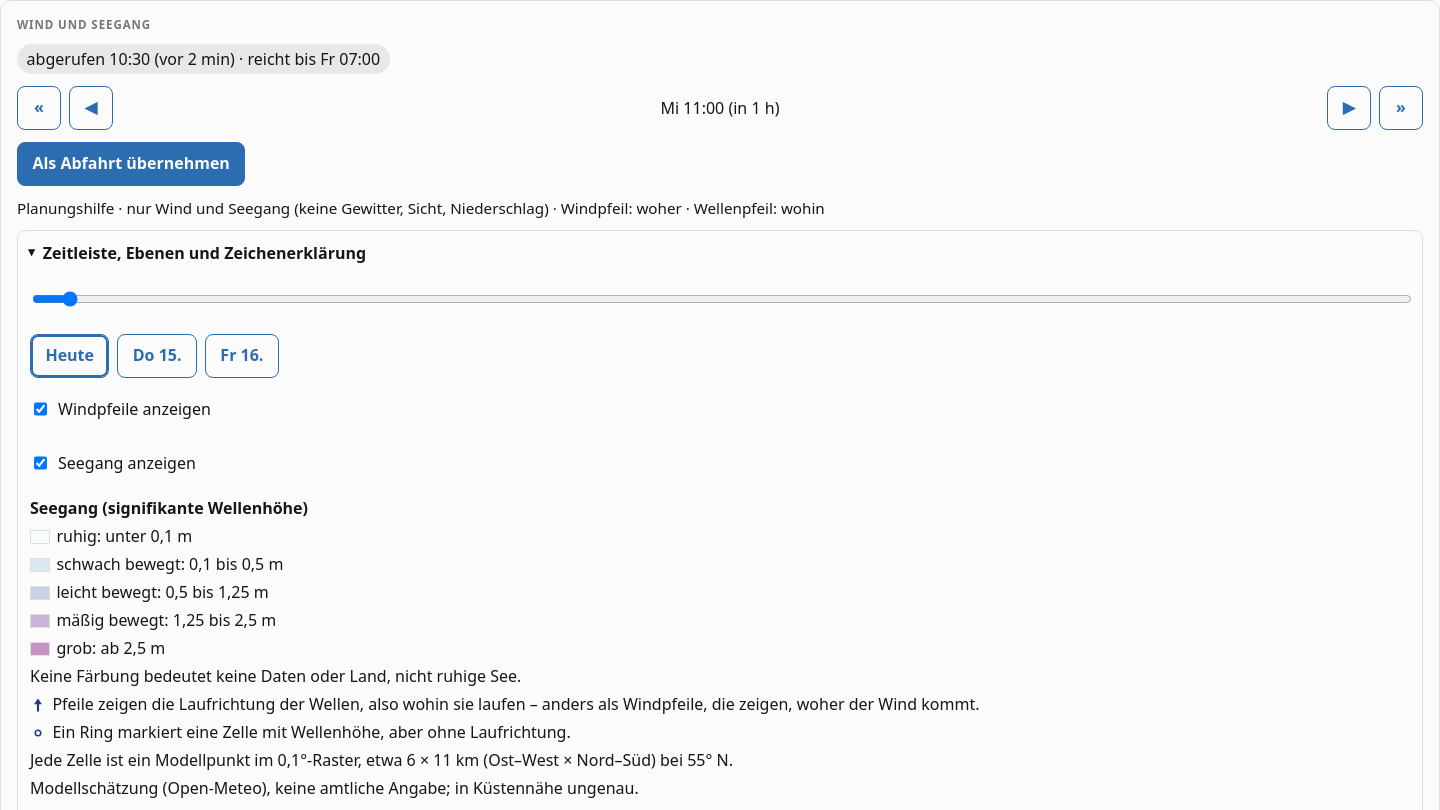
it: ConditionsPanel hour control and handoff (#1854 §4, §11) › steps by hour and day, clamped at the ends
This screenshot has width=1440, height=810.
What coordinates should you click on to do the following:
click the button named "Eine Stunde später"
I would click on:
 (1349, 108)
Its box is [1327,86,1371,130].
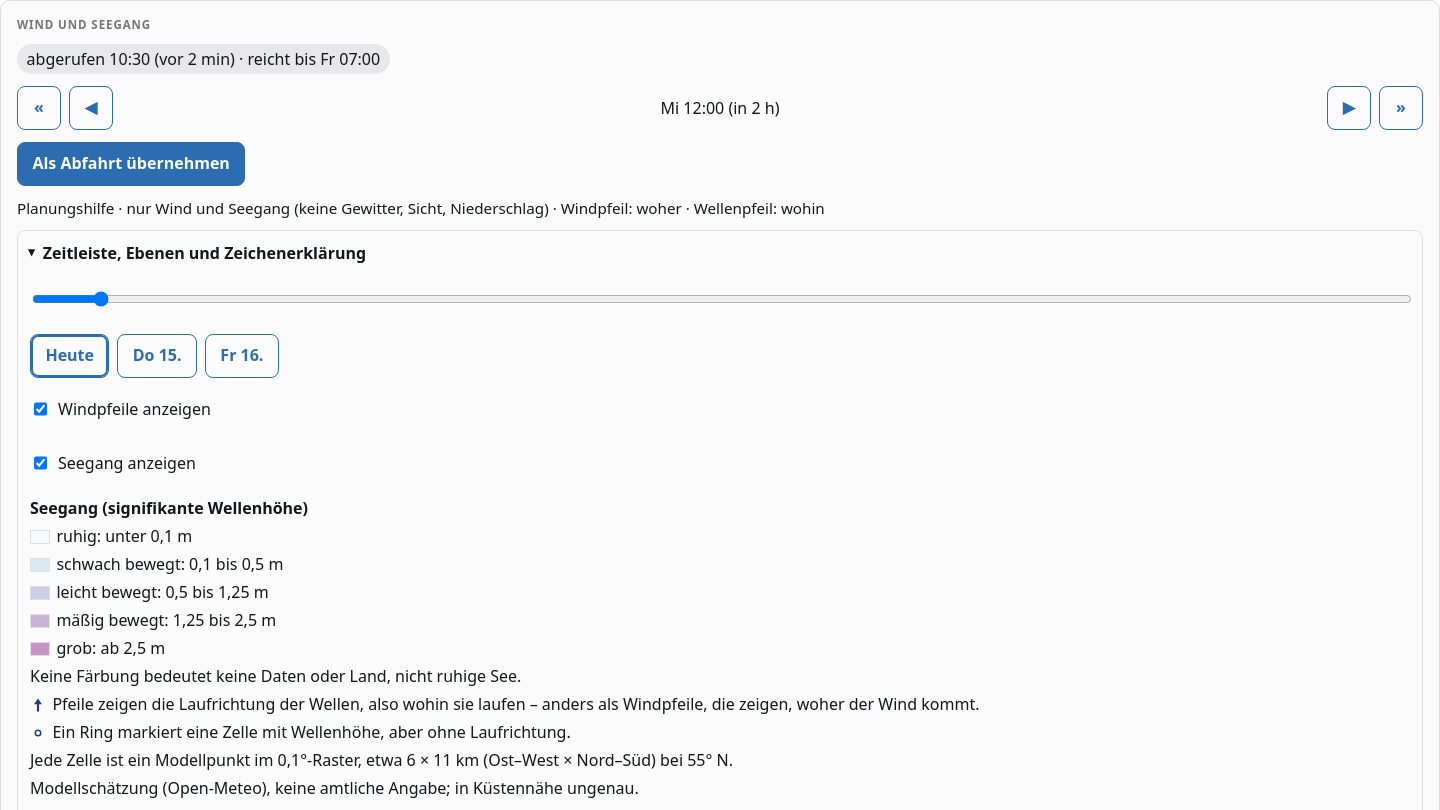
Check: the text with class "conditions-hour-value" shows "(in 2 h)", box [733,97,775,119]
What coordinates should you click on to do the following:
click the button named "Einen Tag später"
I would click on:
 (1401, 108)
Its box is [1379,86,1423,130].
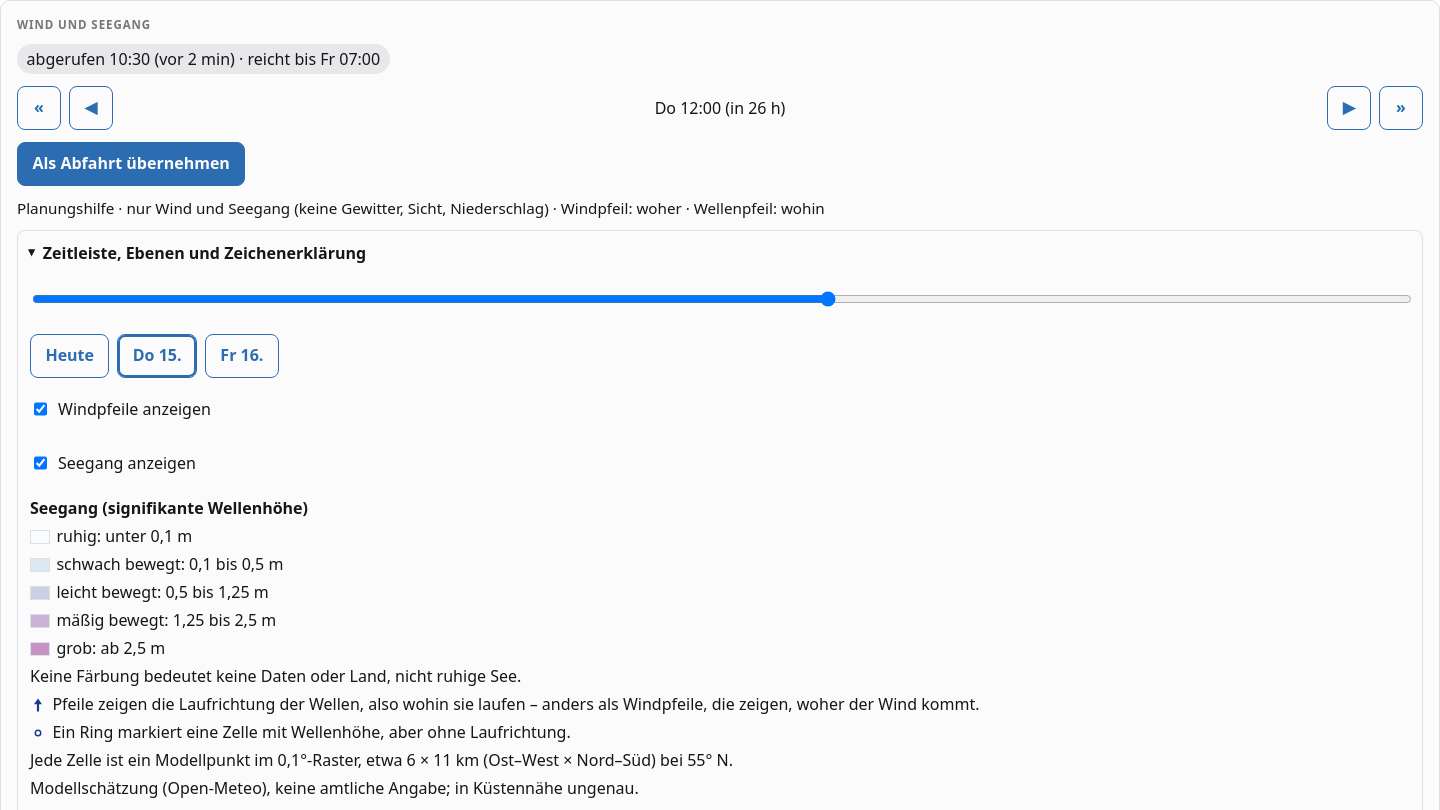
Check: the text with class "conditions-hour-value" shows "(in 26 h)", box [730,97,780,119]
What coordinates should you click on to do the following:
click the button named "Einen Tag früher"
I would click on:
 (39, 108)
Its box is [17,86,61,130].
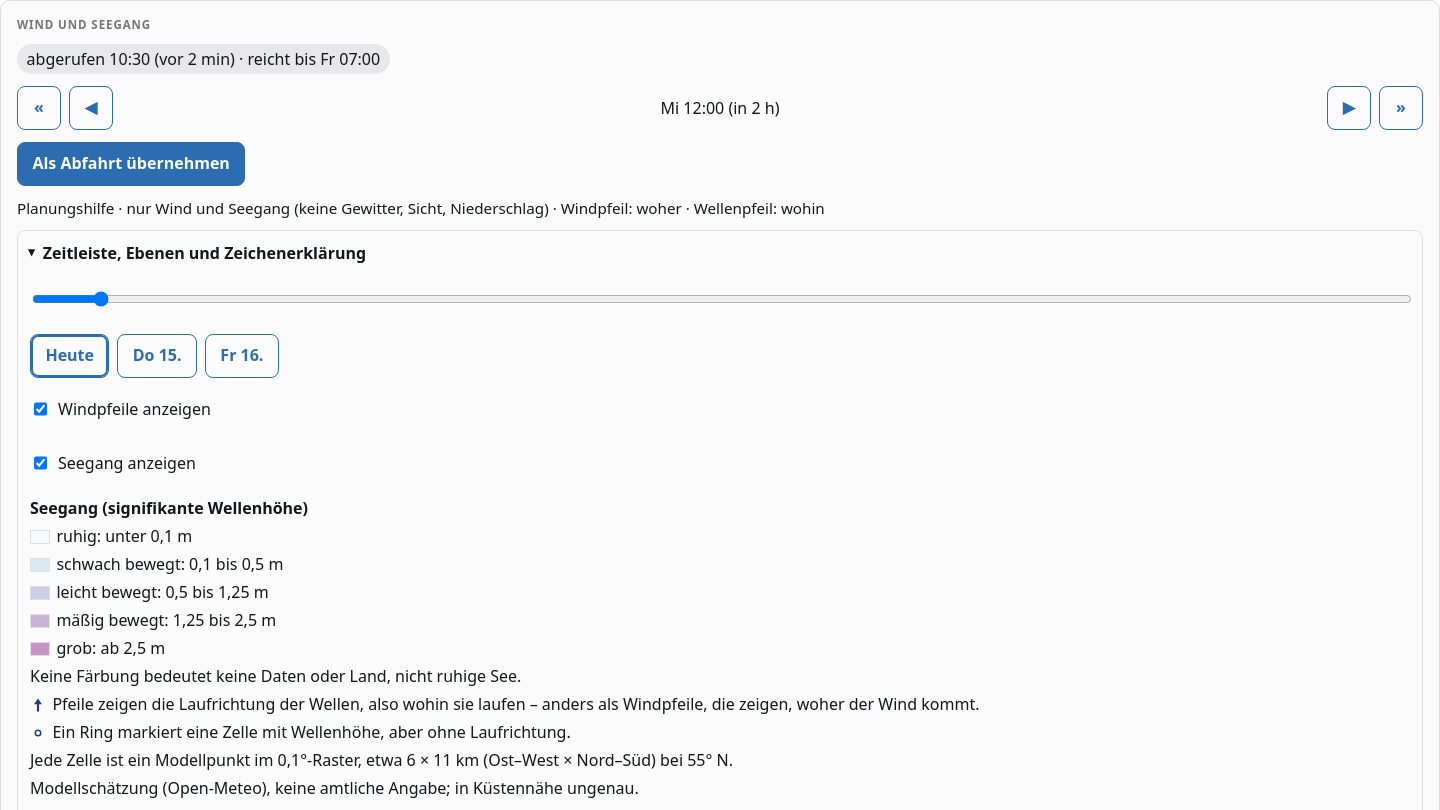
What coordinates should you click on to do the following:
click the button named "Einen Tag früher"
I would click on:
 (39, 108)
Its box is [17,86,61,130].
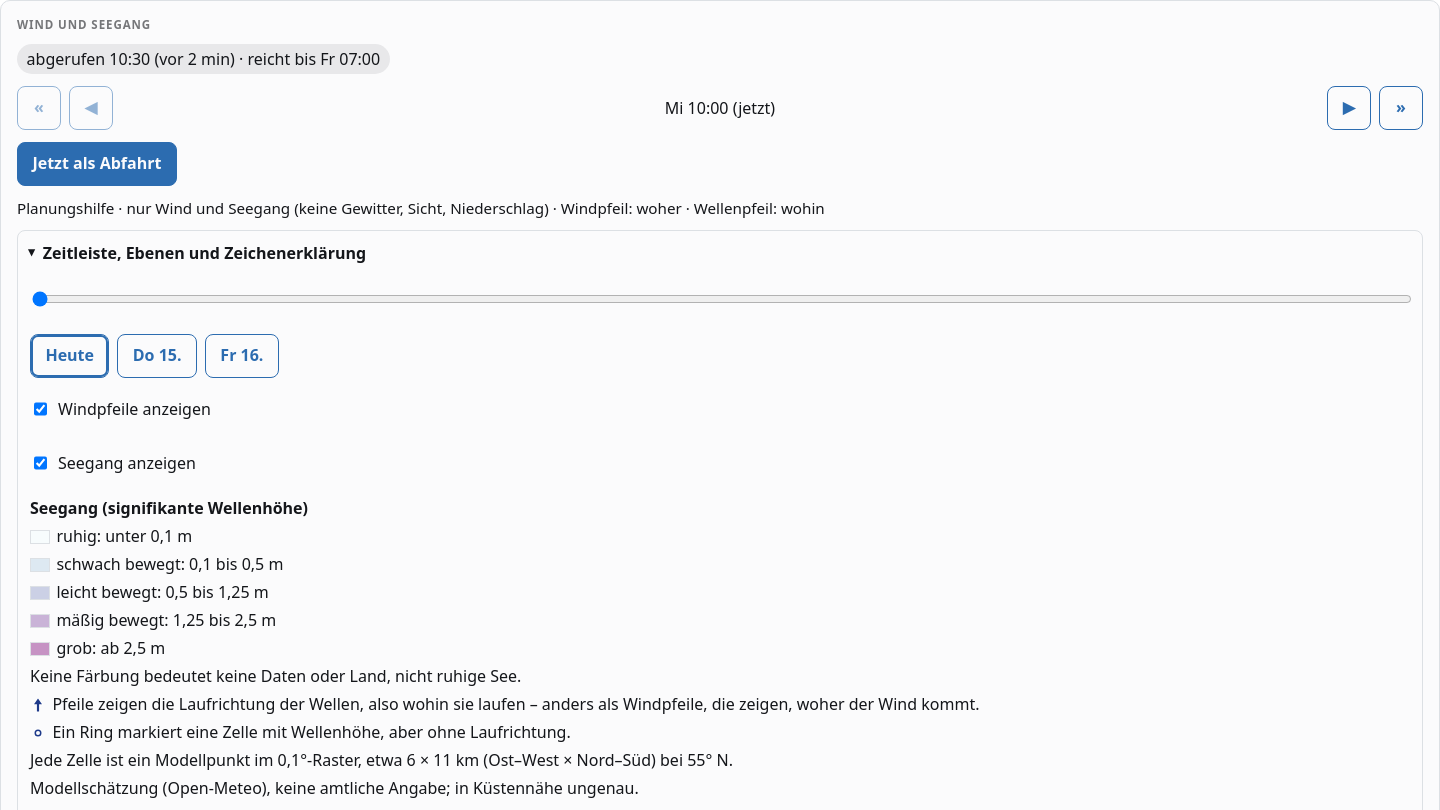
Check: the text with class "conditions-hour-value" shows "(jetzt)", box [738,97,770,119]
Check: the button named "Eine Stunde früher" is disabled, box [69,86,113,130]
